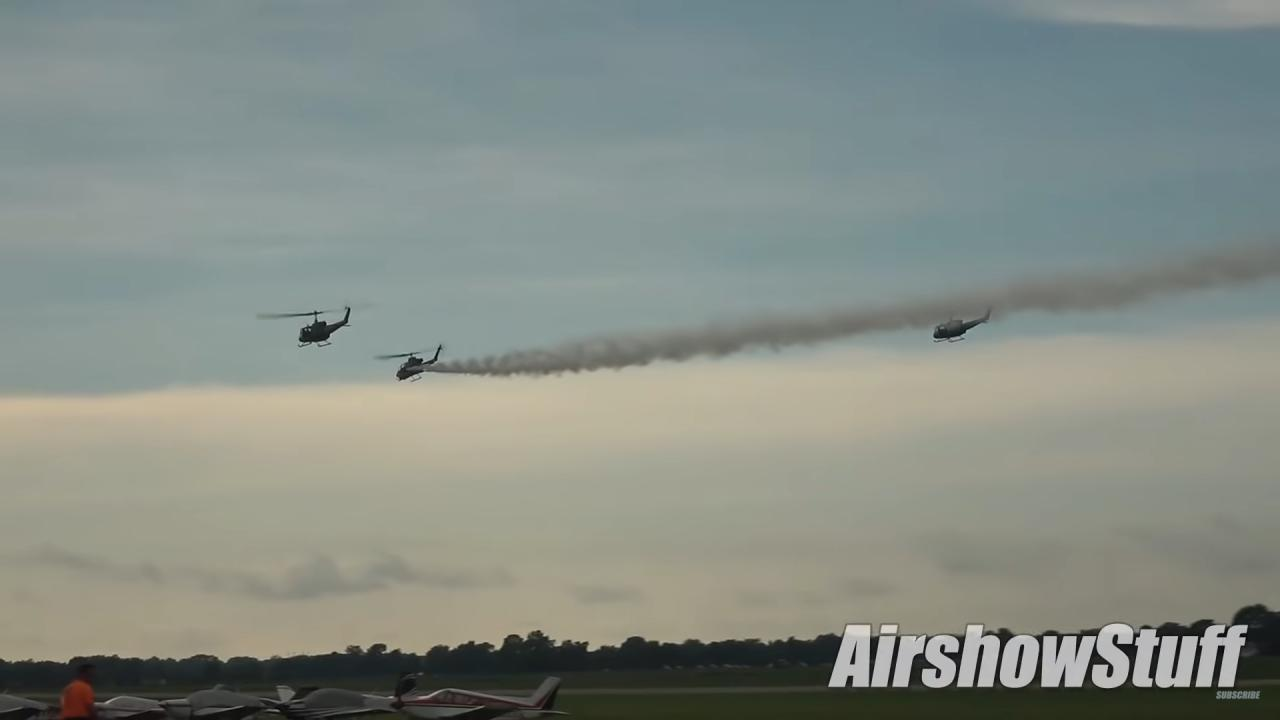Helicopter: (245, 281, 382, 364), (900, 286, 1018, 369), (362, 327, 474, 398)
